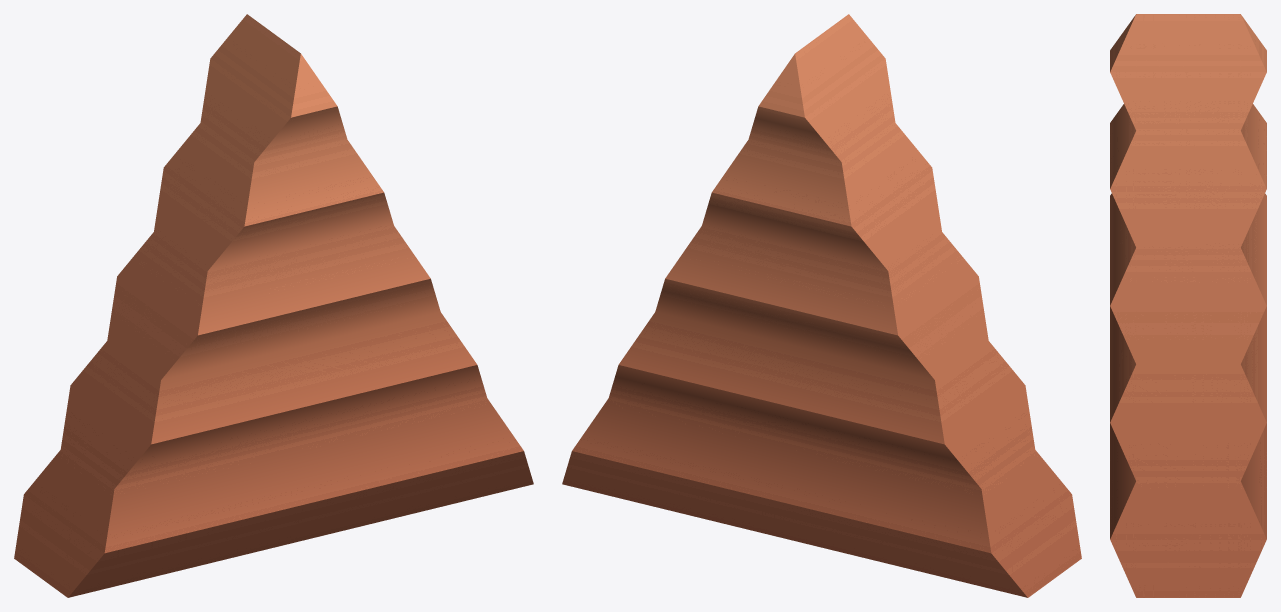
The model's file is cabin-wall-roof-center.glb.
The picture shows the model from 3 angles, left to right: view 1: azimuth 30°, elevation 25°; view 2: azimuth 150°, elevation 25°; view 3: azimuth 270°, elevation 25°; orthographic projection. The views are drawn at different scales.
Visible parts, largest first — view 1: cabin-wall-roof-center; view 2: cabin-wall-roof-center; view 3: cabin-wall-roof-center.
Part boxes in pixels (x1,y1,x2,y2): cabin-wall-roof-center: [14, 14, 533, 597]; cabin-wall-roof-center: [562, 14, 1081, 597]; cabin-wall-roof-center: [1110, 14, 1266, 597].
Bounding box in the file's own units: 1 × 1 × 0.3.
Materials: 1 (1 with a texture image).
